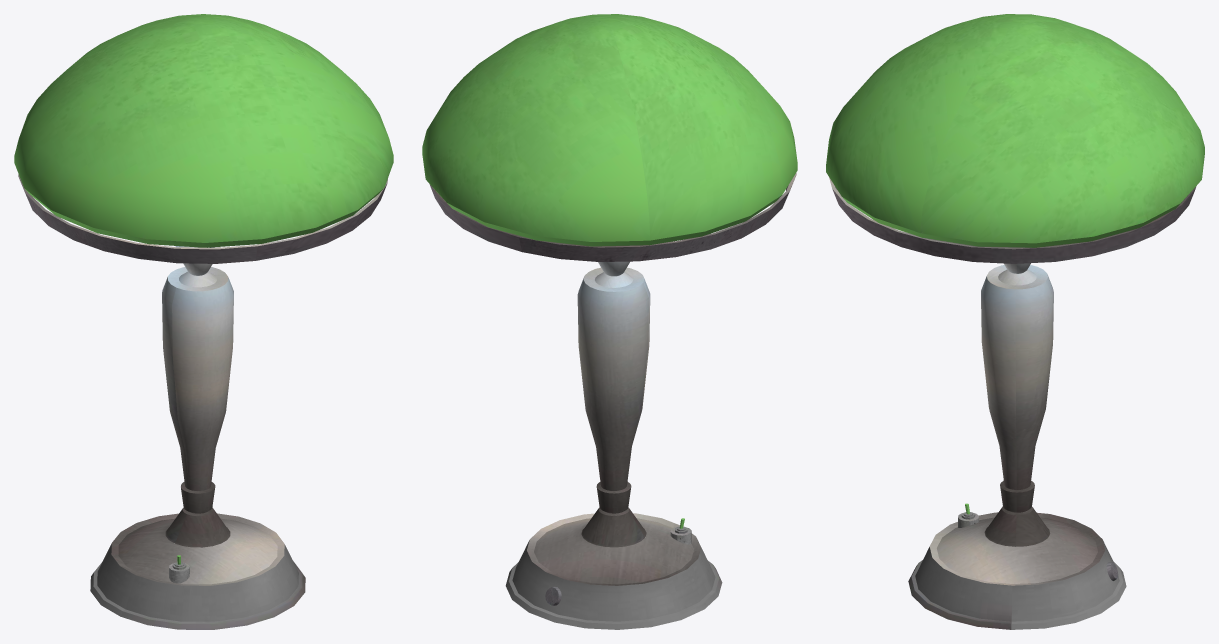
Rendered from lamp.FBX.
3 renders of one model, left to right at view 1: azimuth 30°, elevation 25°; view 2: azimuth 150°, elevation 25°; view 3: azimuth 270°, elevation 25°, orthographic.
Visible parts, largest first — view 1: lamp; view 2: lamp; view 3: lamp.
Part boxes in pixels (x1,y1,x2,y2): lamp: (14, 14, 393, 629); lamp: (422, 14, 797, 629); lamp: (826, 14, 1204, 629).
Bounding box in the file's own units: 30.29 × 49.61 × 30.37.
